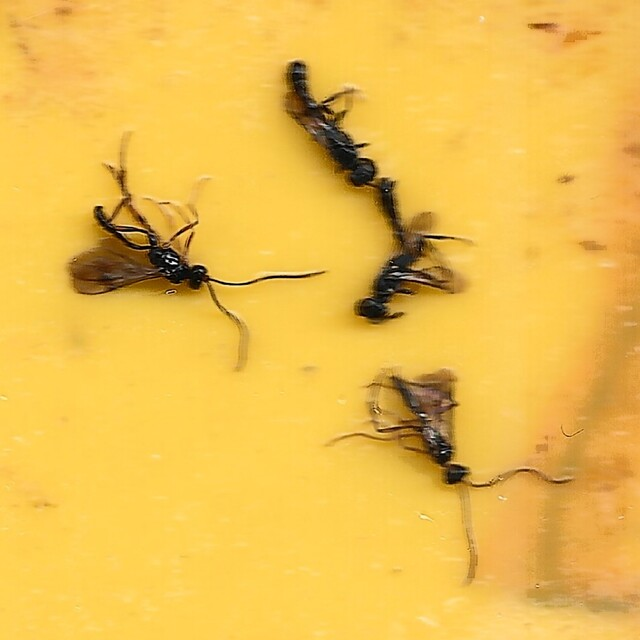Hymenoptera: (67, 128, 324, 368), (330, 366, 573, 581), (355, 185, 472, 327), (280, 59, 384, 190)
